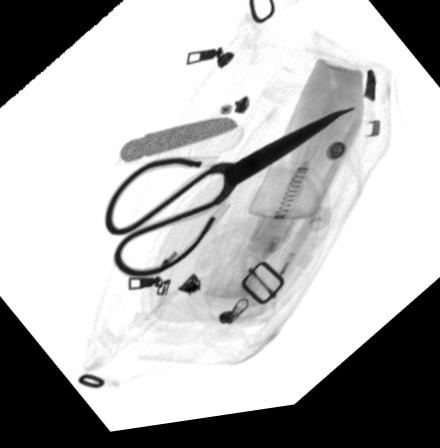Knife: (117, 122, 237, 165)
Scissors: (105, 119, 357, 281)
